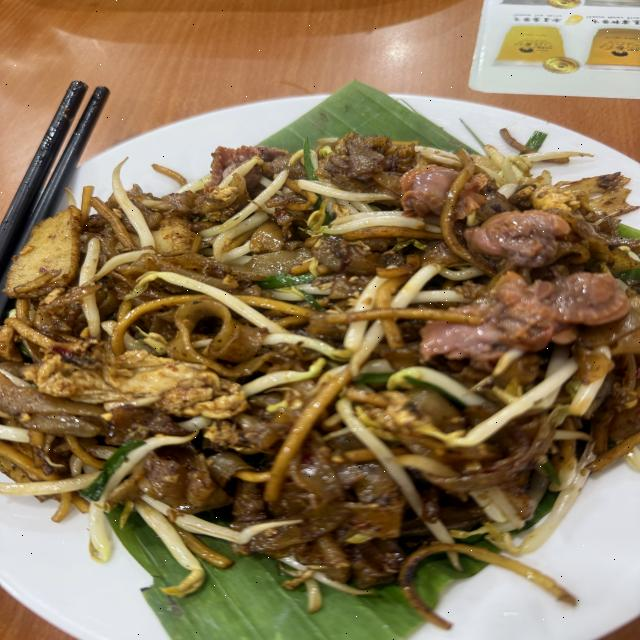Char Kway Teow: (29, 92, 616, 602)
